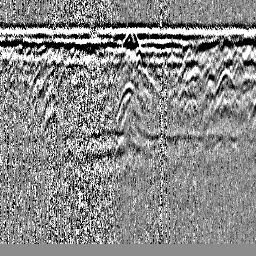cavity: (115, 81, 141, 121)
